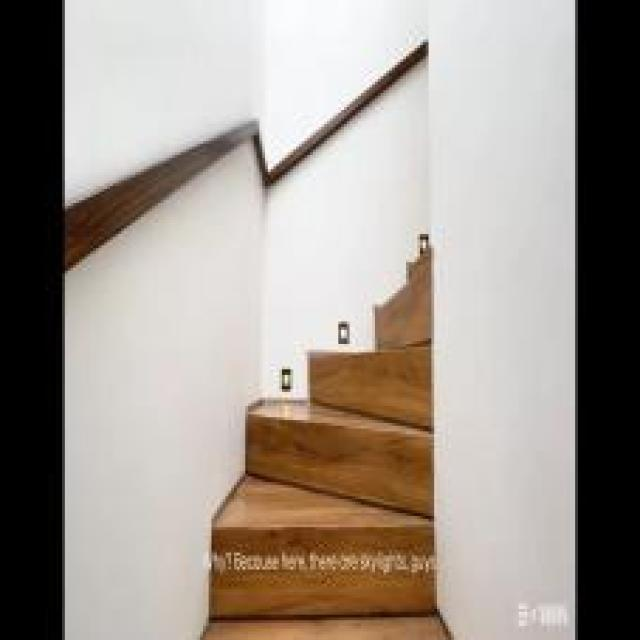upstair: (238, 334, 438, 514)
